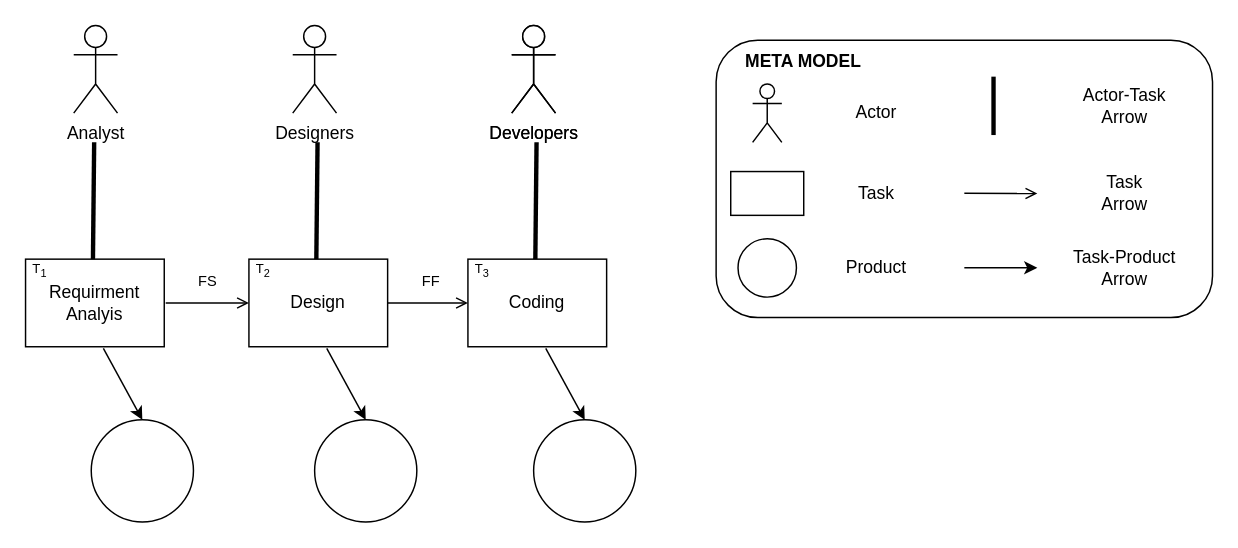
The diagram is 1238 pixels wide and 548 high, and some of its shapes have lost their labels. Here are the shapes that lost their labels. From the top down, the centre of each, then its label:
the point at 141,470: Requirment Doc
the point at 365,470: Designer Doc
the point at 584,470: Code
